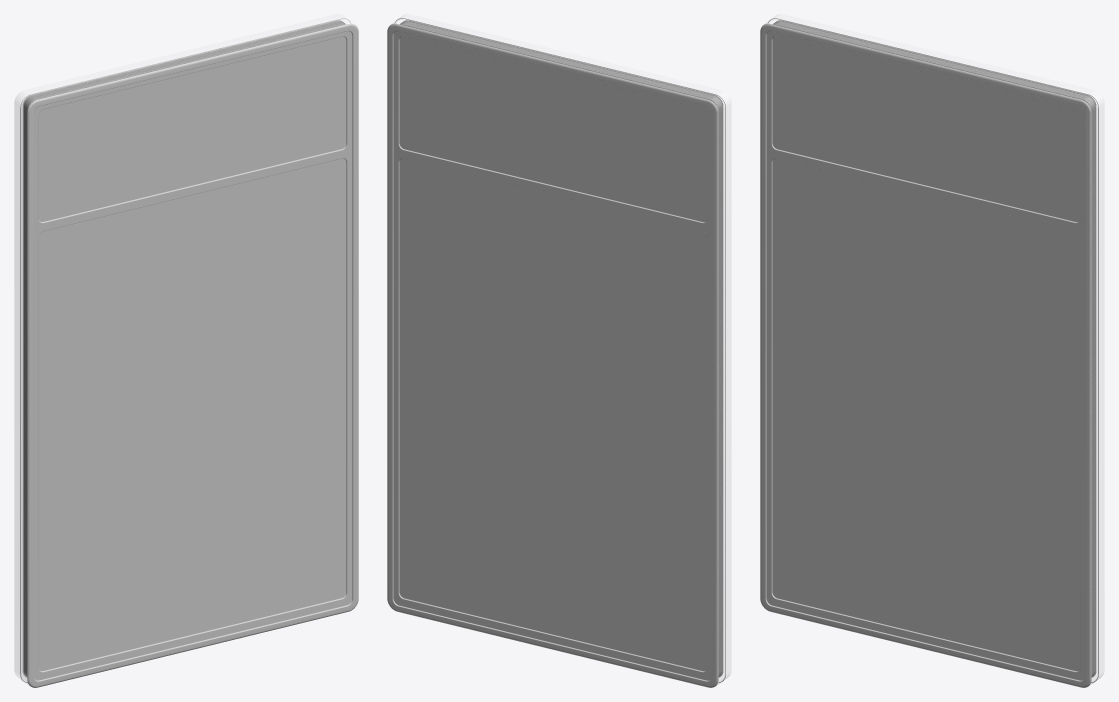
File: slab.glb
The picture shows the model from 3 angles, left to right: view 1: azimuth 30°, elevation 25°; view 2: azimuth 150°, elevation 25°; view 3: azimuth 330°, elevation 25°; orthographic projection.
Parts seen in each view (by area): view 1: Case, Holder; view 2: Case, Holder; view 3: Case, Holder.
Part boxes in pixels (bbox=[...]): Case: bbox=[14, 14, 358, 687]; Holder: bbox=[23, 21, 344, 676]; Case: bbox=[387, 14, 731, 687]; Holder: bbox=[401, 21, 722, 676]; Case: bbox=[760, 14, 1104, 687]; Holder: bbox=[774, 21, 1095, 676].
Size of the model in its own units: 0.08 by 0.1355 by 0.006.
Materials: 8 (5 with a texture image).
